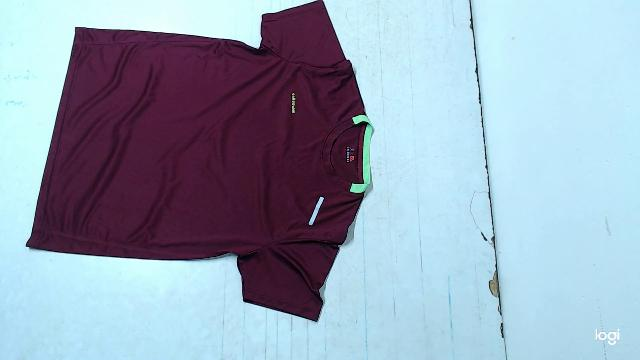new-garment: (27, 0, 372, 321)
